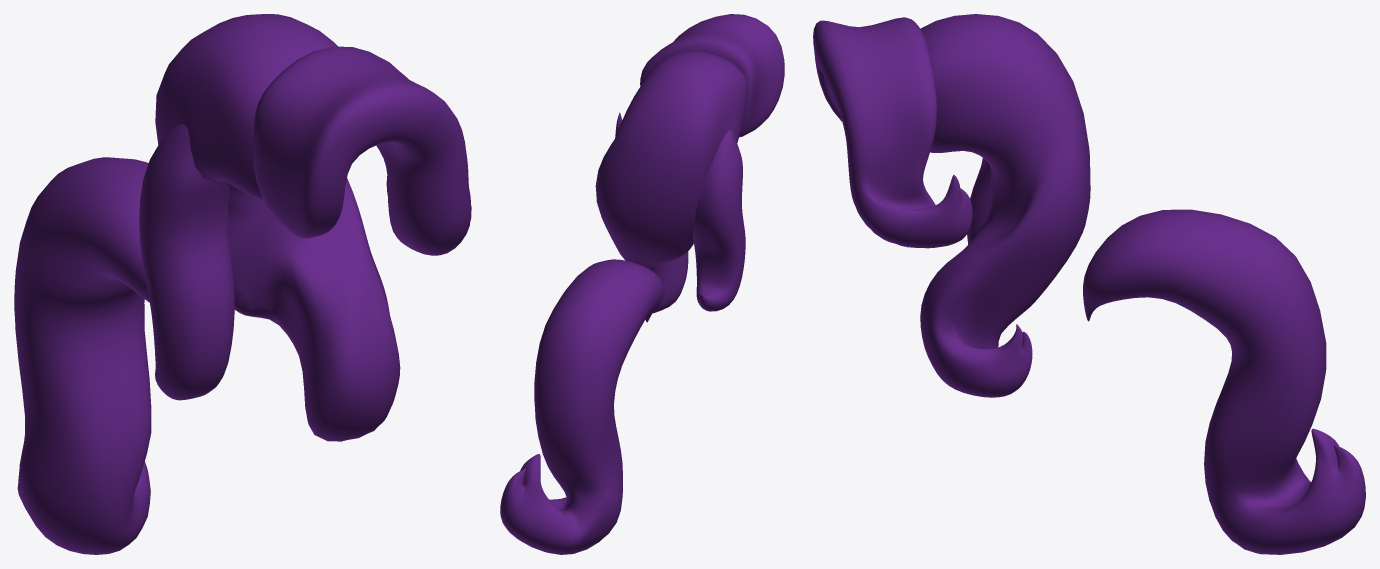
Rendered from StarlightGlimmerHair.fbx.
3 views of the same model, side by side, from view 1: azimuth 30°, elevation 25°; view 2: azimuth 150°, elevation 25°; view 3: azimuth 270°, elevation 25° (orthographic). The views are drawn at different scales.
Parts seen in each view (by area): view 1: tail, hairback, hairfront_reformed, hairback_reformed; view 2: tail, hairback, hairback_reformed, hairfront_reformed; view 3: tail, hairback, hairfront_reformed, hairback_reformed.
Boxes of the visible parts, <box> form: tail: <box>14,157,151,554</box>; hairback: <box>155,14,400,441</box>; hairfront_reformed: <box>253,46,471,255</box>; hairback_reformed: <box>139,124,234,400</box>; tail: <box>500,259,664,554</box>; hairback: <box>595,51,748,313</box>; hairback_reformed: <box>693,130,745,311</box>; hairfront_reformed: <box>615,14,784,137</box>; tail: <box>1083,209,1365,554</box>; hairback: <box>920,14,1090,397</box>; hairfront_reformed: <box>813,17,972,248</box>; hairback_reformed: <box>967,158,991,244</box>.
Size of the model in its own units: 1.69 by 4.42 by 4.22.
